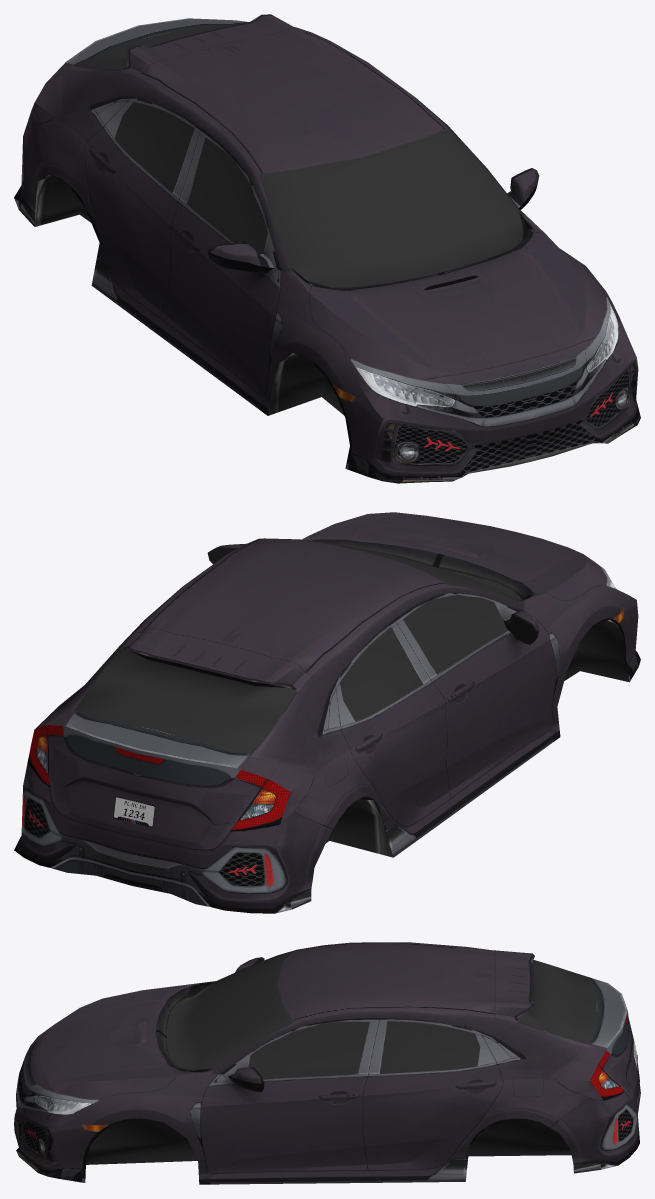
The model's file is car 10.fbx.
3 views of the same model, one above another, from view 1: azimuth 30°, elevation 25°; view 2: azimuth 150°, elevation 25°; view 3: azimuth 270°, elevation 25° (orthographic). The views are drawn at different scales.
Visible parts, largest first — view 1: bidy; view 2: bidy; view 3: bidy.
Part boxes in pixels (x1,y1,x2,y2): bidy: [14, 14, 640, 483]; bidy: [14, 512, 640, 913]; bidy: [14, 942, 640, 1184].
Bounding box in the file's own units: 1113 × 662 × 2362.
Materials: 1 (1 with a texture image).
